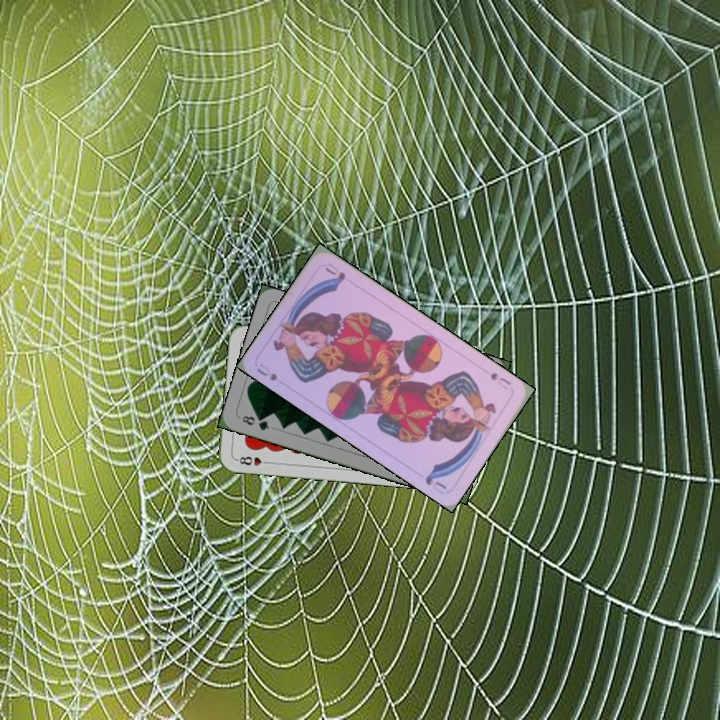G8: (238, 411, 272, 433)
H8: (233, 452, 273, 468)
SU: (486, 368, 513, 393), (252, 360, 280, 384)
